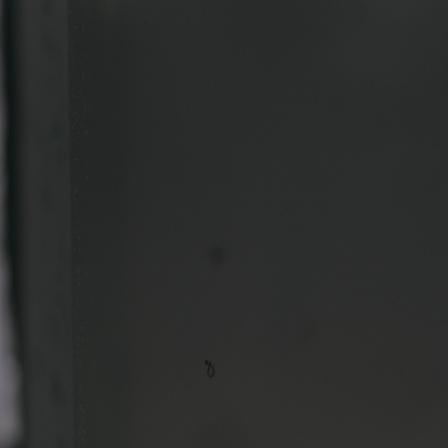Jentik-Nyamuk: (199, 351, 223, 382)
